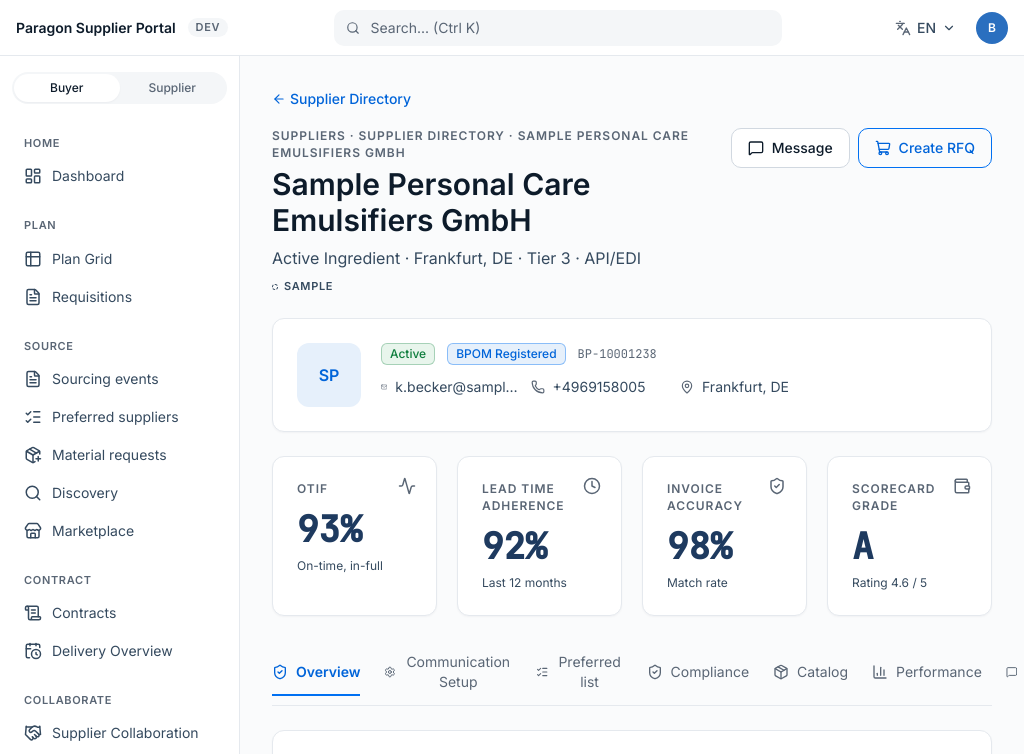
Scenario: BuyerSupplierProfile — the PSL tab (EN) › ⚠️ AN OVERRIDDEN CAP SHOWS ITS JUSTIFICATION AND ITS DECIDER
Click the tab "Preferred list" at (579, 673), box left=536, top=640, right=622, bottom=706
(page scrolled)
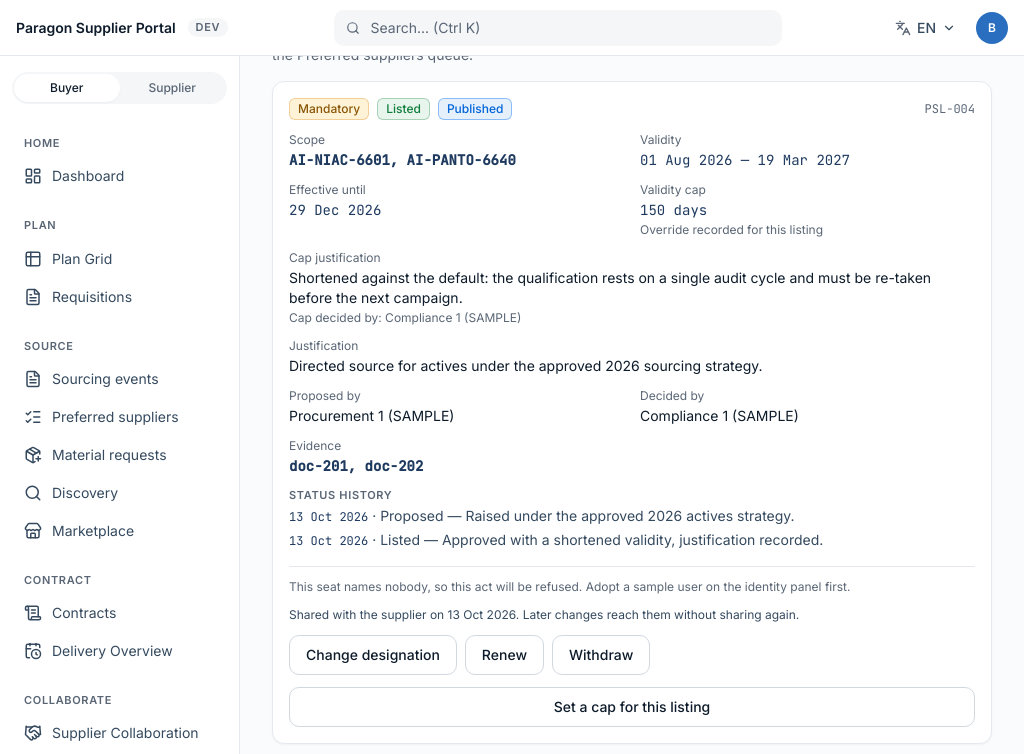
Expected: the element with test id "psl-listing-psl-004" shows "150 days", left=640, top=201, right=707, bottom=219
Expected: the element with test id "psl-listing-psl-004" shows "Override recorded for this listing", left=640, top=222, right=823, bottom=237
Expected: the element with test id "psl-listing-psl-004" shows "must be re-taken before the next campaign", left=289, top=269, right=931, bottom=306
